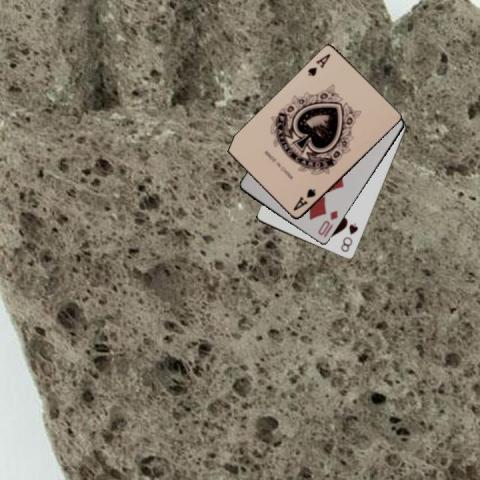10d: (315, 208, 339, 237)
8s: (338, 221, 359, 254)
As: (290, 186, 317, 213), (305, 51, 332, 78)
